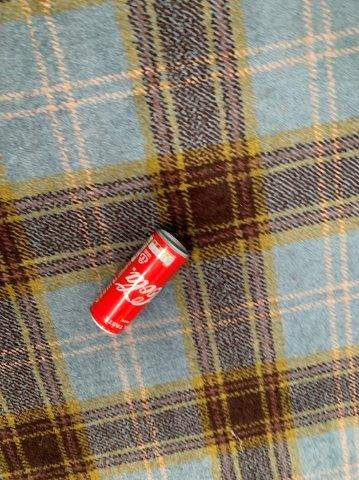kaleng: (92, 229, 188, 334)
